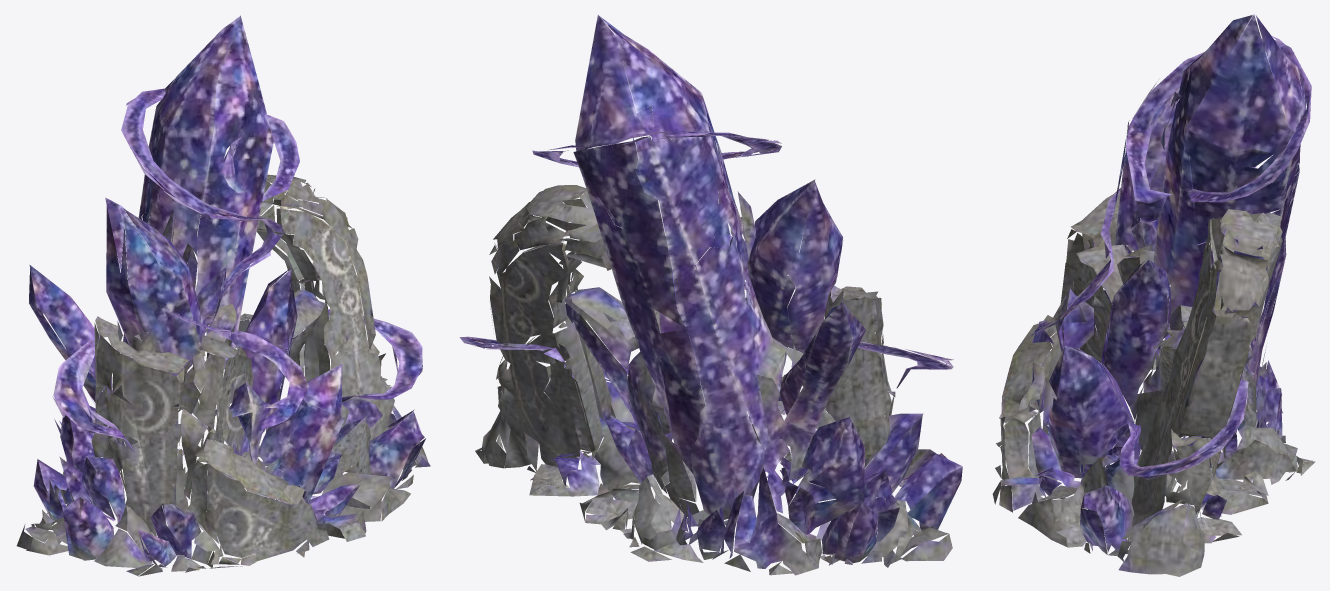
Rendered from deco_starshard_lite.glb.
The picture shows the model from 3 angles, left to right: view 1: azimuth 30°, elevation 25°; view 2: azimuth 150°, elevation 25°; view 3: azimuth 270°, elevation 25°; orthographic projection. The views are drawn at different scales.
Visible parts, largest first — view 1: geometry_0; view 2: geometry_0; view 3: geometry_0.
Boxes of the visible parts, x1=… form: geometry_0: x1=16, y1=15, x2=430, y2=576; geometry_0: x1=459, y1=15, x2=962, y2=575; geometry_0: x1=992, y1=14, x2=1315, y2=576.
Bounding box in the file's own units: 1.86 × 1.93 × 1.15.
1 material, 1 textured.
